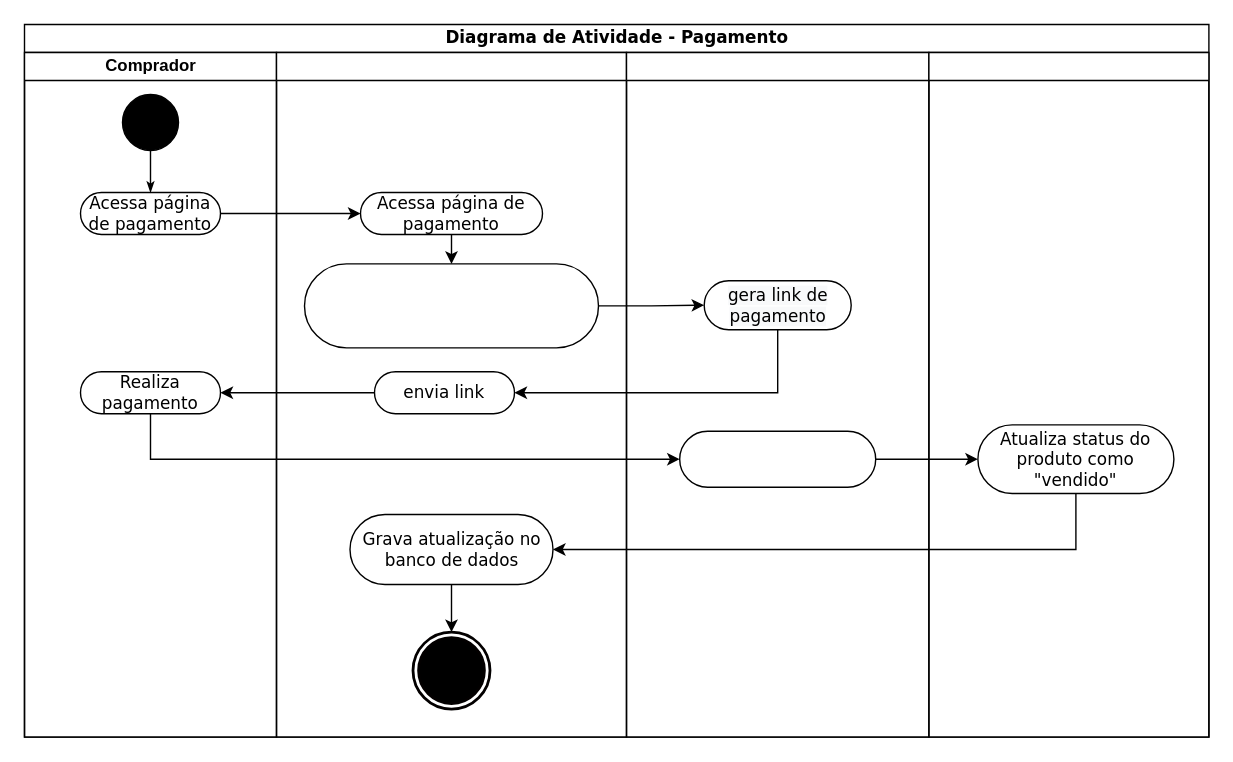
This 1233x762 diagram has some shape labels left out. Each missing label, with the box of its shape:
Envia pagamento ao vendedor: (678, 430, 876, 487)
inicia transação fornecendo dados de comprador, vendedor e valor da transação: (303, 262, 598, 348)
Servidor: (275, 51, 626, 737)
Sistema Externo de Pagamento: (625, 51, 929, 737)
Vendedor: (927, 51, 1209, 737)
